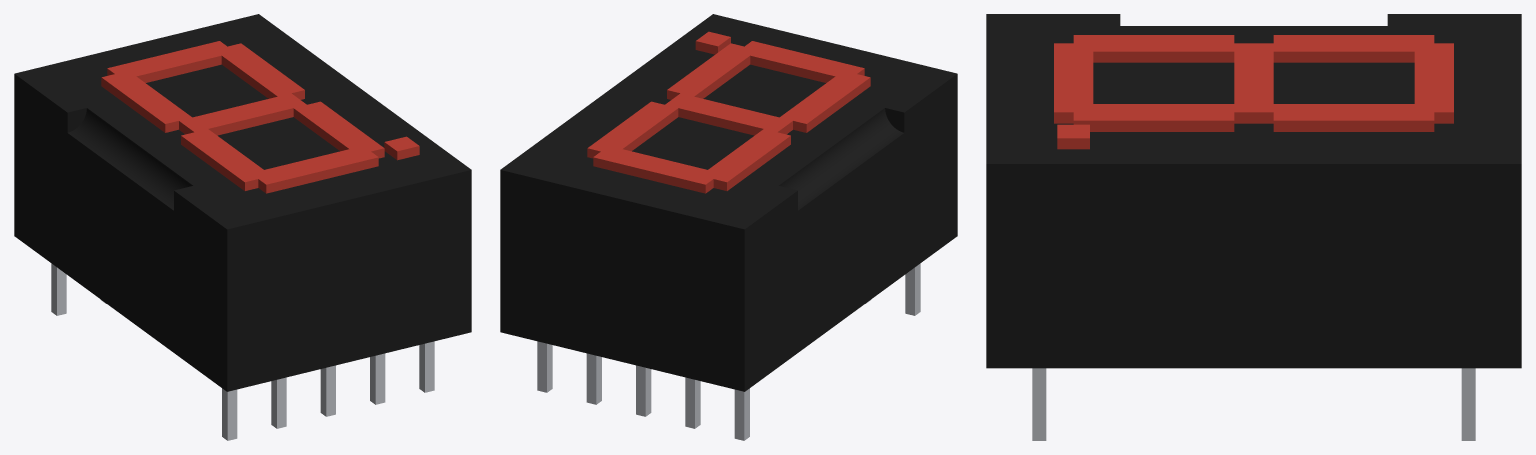
File: display-7seg-cc.glb
3 renders of one model, left to right at view 1: azimuth 30°, elevation 25°; view 2: azimuth 150°, elevation 25°; view 3: azimuth 270°, elevation 25°, orthographic. The views are drawn at different scales.
Parts seen in each view (by area): view 1: object 1, seg-d, seg-g, seg-a, seg-f, seg-e, seg-c, seg-b, lead-1, lead-4, lead-5, lead-3 (+3 smaller); view 2: object 1, seg-a, seg-g, seg-d, seg-e, seg-f, seg-c, seg-b, lead-10, lead-7, lead-6, lead-8 (+3 smaller); view 3: object 1, seg-b, seg-c, seg-f, seg-e, seg-g, seg-a, seg-d, lead-5, lead-6, seg-dp.
Part boxes in pixels (left/top/right/bottom): object 1: left=14, top=14, right=471, bottom=391; seg-d: left=251, top=146, right=378, bottom=193; seg-g: left=179, top=93, right=306, bottom=135; seg-a: left=107, top=41, right=234, bottom=82; seg-f: left=101, top=73, right=191, bottom=132; seg-e: left=181, top=129, right=270, bottom=190; seg-c: left=293, top=101, right=384, bottom=158; seg-b: left=220, top=43, right=304, bottom=99; lead-1: left=222, top=388, right=237, bottom=440; lead-4: left=370, top=353, right=385, bottom=404; lead-5: left=419, top=341, right=434, bottom=392; lead-3: left=320, top=365, right=335, bottom=416; object 1: left=500, top=14, right=957, bottom=391; seg-a: left=593, top=146, right=720, bottom=193; seg-g: left=665, top=93, right=792, bottom=135; seg-d: left=738, top=41, right=864, bottom=82; seg-e: left=780, top=74, right=870, bottom=132; seg-f: left=701, top=129, right=790, bottom=190; seg-c: left=667, top=43, right=757, bottom=99; seg-b: left=587, top=101, right=678, bottom=158; lead-10: left=734, top=388, right=749, bottom=440; lead-7: left=586, top=353, right=601, bottom=404; lead-6: left=537, top=341, right=552, bottom=392; lead-8: left=636, top=365, right=651, bottom=416; object 1: left=986, top=14, right=1521, bottom=368; seg-b: left=1273, top=104, right=1434, bottom=131; seg-c: left=1073, top=104, right=1234, bottom=131; seg-f: left=1273, top=35, right=1434, bottom=62; seg-e: left=1073, top=35, right=1234, bottom=62; seg-g: left=1234, top=43, right=1273, bottom=123; seg-a: left=1414, top=43, right=1453, bottom=123; seg-d: left=1054, top=43, right=1093, bottom=123; lead-5: left=1032, top=368, right=1046, bottom=440; lead-6: left=1461, top=368, right=1475, bottom=440; seg-dp: left=1057, top=124, right=1089, bottom=149.
Size of the model in its own units: 0.0126 by 0.0117 by 0.019.
